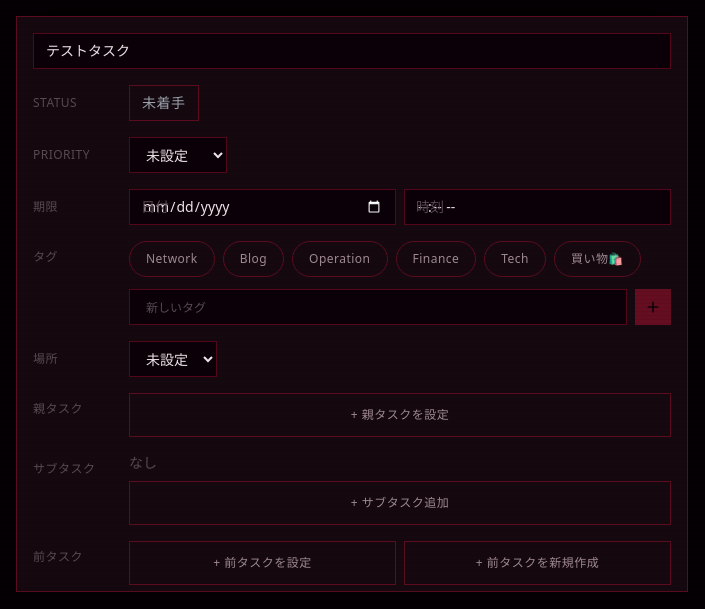
Test case: TaskDetail サブタスク › 前タスクを新規作成ボタンで作成フォームが開く
Click the button with test id "prev-task-create-button".
click(538, 563)  # box x1=404 y1=541 x2=671 y2=585
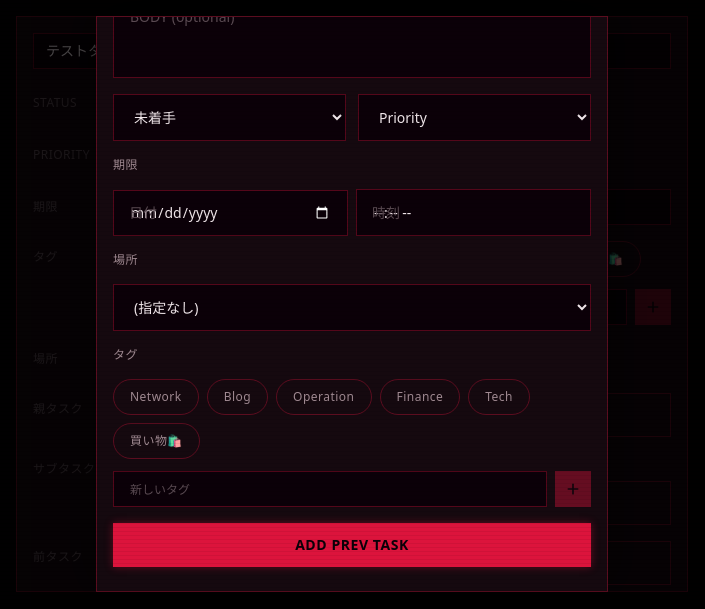
Now the button "ADD PREV TASK" is shown, box x1=113 y1=523 x2=591 y2=567
